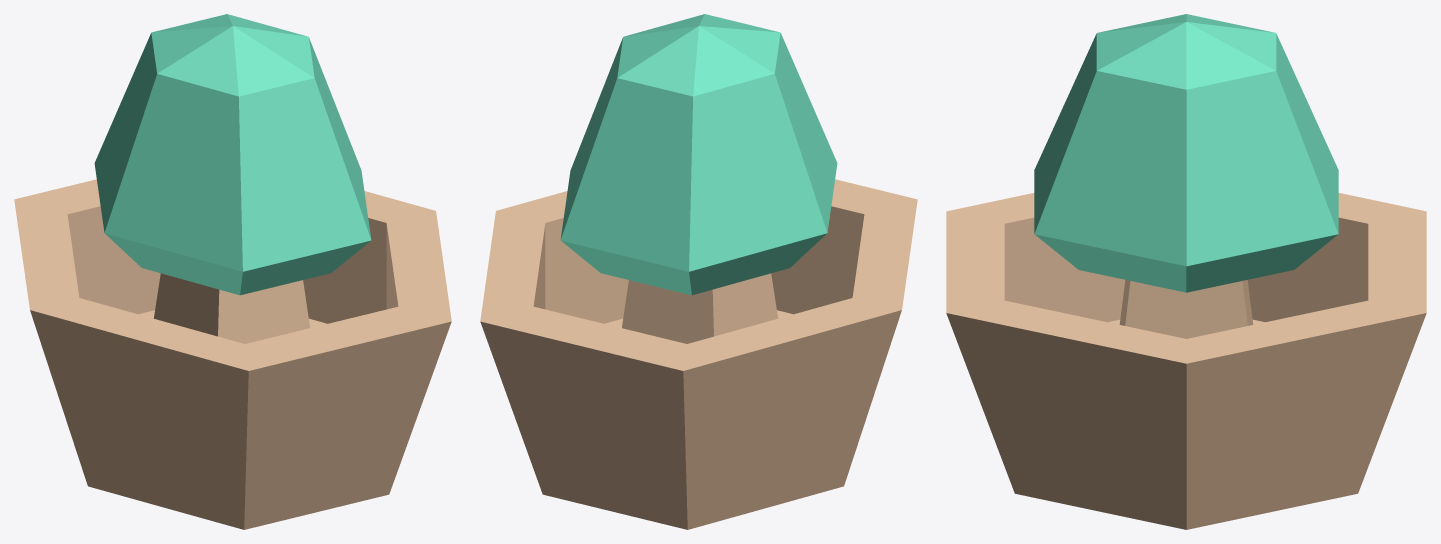
File: kn-plant-small3.glb
3 views of the same model, side by side, from view 1: azimuth 30°, elevation 25°; view 2: azimuth 150°, elevation 25°; view 3: azimuth 270°, elevation 25° (orthographic). The views are drawn at different scales.
Parts seen in each view (by area): view 1: plantSmall3(Clone); view 2: plantSmall3(Clone); view 3: plantSmall3(Clone).
Boxes of the visible parts, box(x1,y1,x2,y2) form: plantSmall3(Clone): box(14, 14, 451, 529); plantSmall3(Clone): box(480, 14, 917, 529); plantSmall3(Clone): box(946, 14, 1426, 529).
Bounding box in the file's own units: 1 × 1 × 1.
